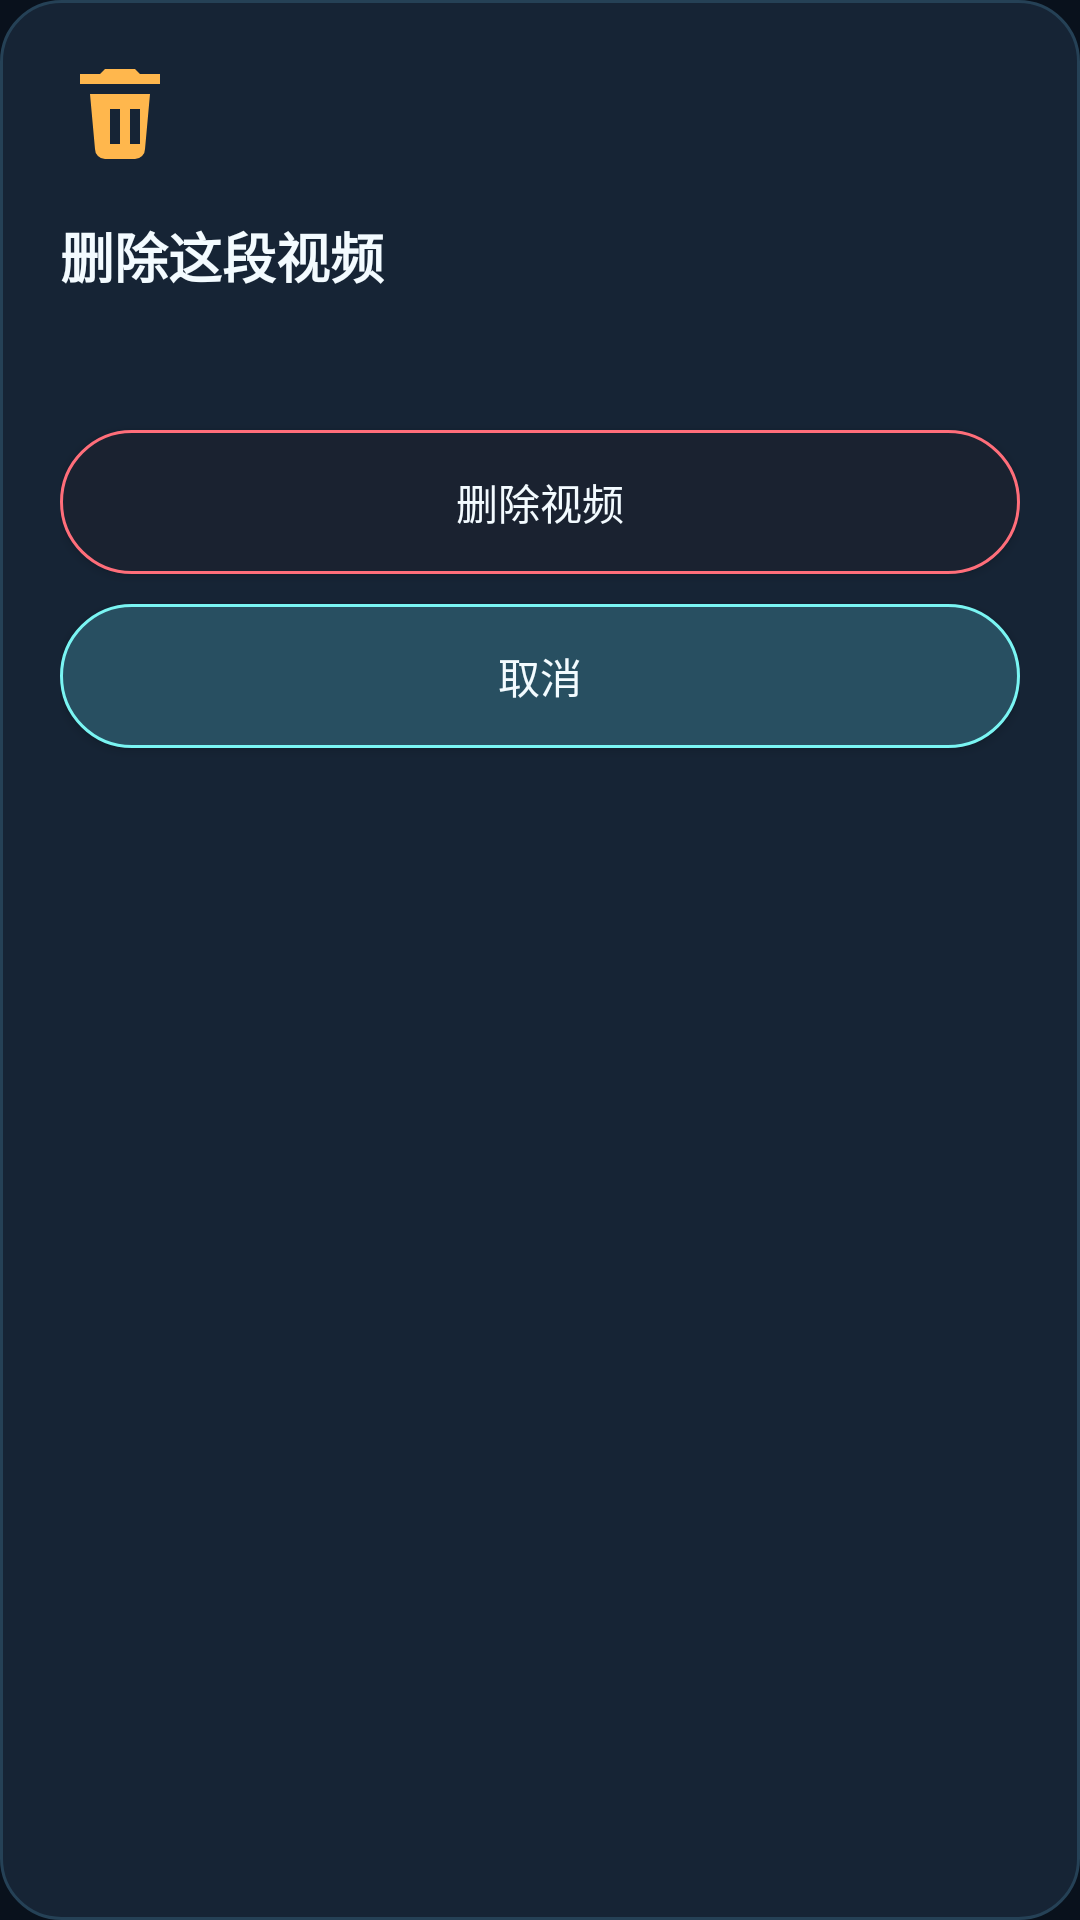

Icon click points for this 1080w x 1920h phone screenshot, format (x=x, y=y):
delete: (x=120, y=114)
